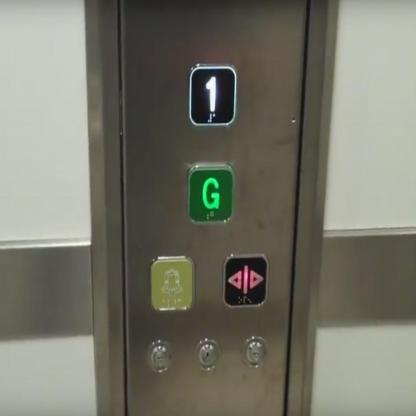1: (188, 62, 237, 127)
G: (184, 161, 236, 228)
alarm: (148, 253, 196, 313)
keyhole: (146, 339, 173, 374), (193, 337, 220, 371), (240, 335, 267, 369)
open: (221, 251, 270, 311)
